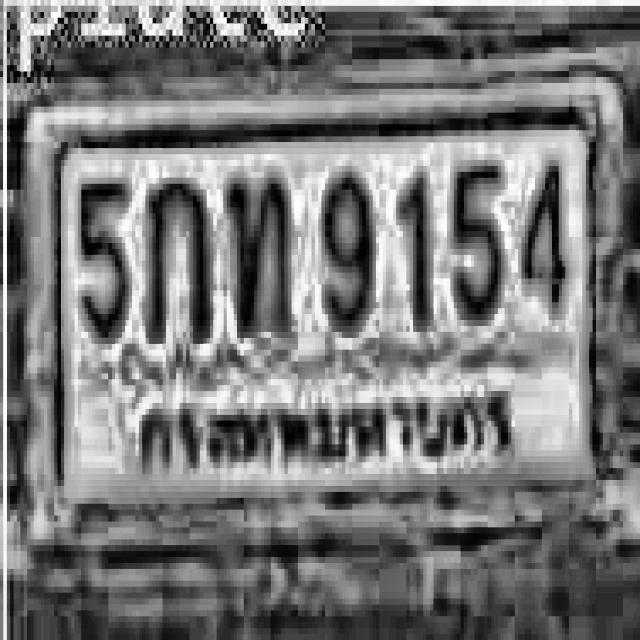license-plate: (19, 69, 622, 566)
